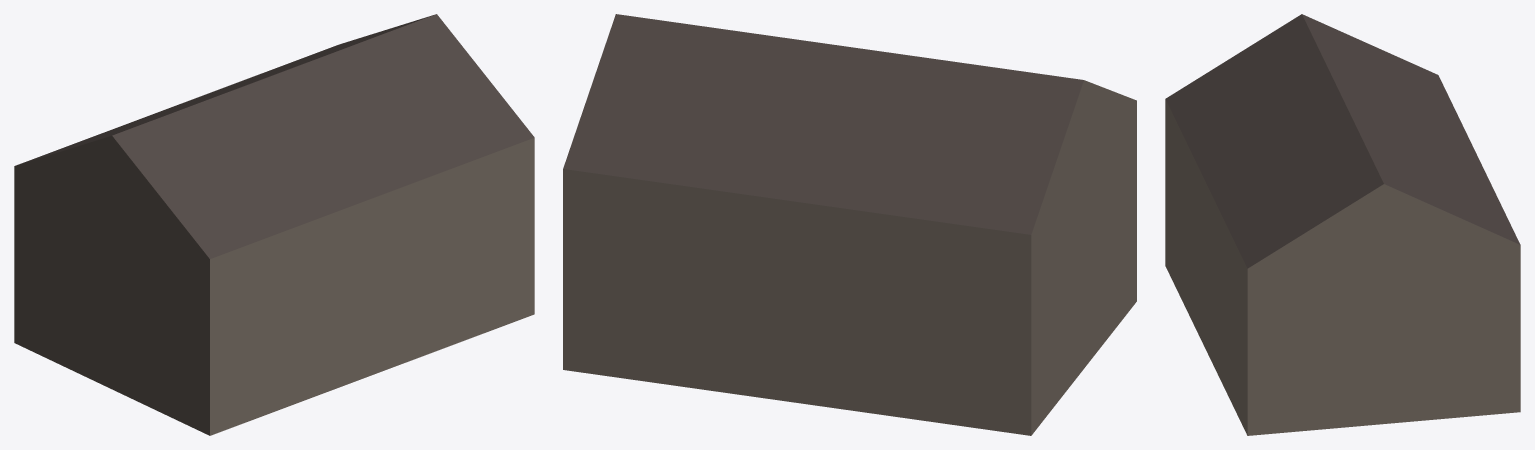
3 renders of one model, left to right at view 1: azimuth 30°, elevation 25°; view 2: azimuth 150°, elevation 25°; view 3: azimuth 270°, elevation 25°, orthographic. The views are drawn at different scales.
Visible parts, largest first — view 1: HP-w389702046; view 2: HP-w389702046; view 3: HP-w389702046.
Boxes of the visible parts, x1,y1,x2,y2 form: HP-w389702046: (14,14,534,435); HP-w389702046: (563,14,1136,435); HP-w389702046: (1165,14,1520,435).
Size of the model in its own units: 14.91 by 8.62 by 11.55.
